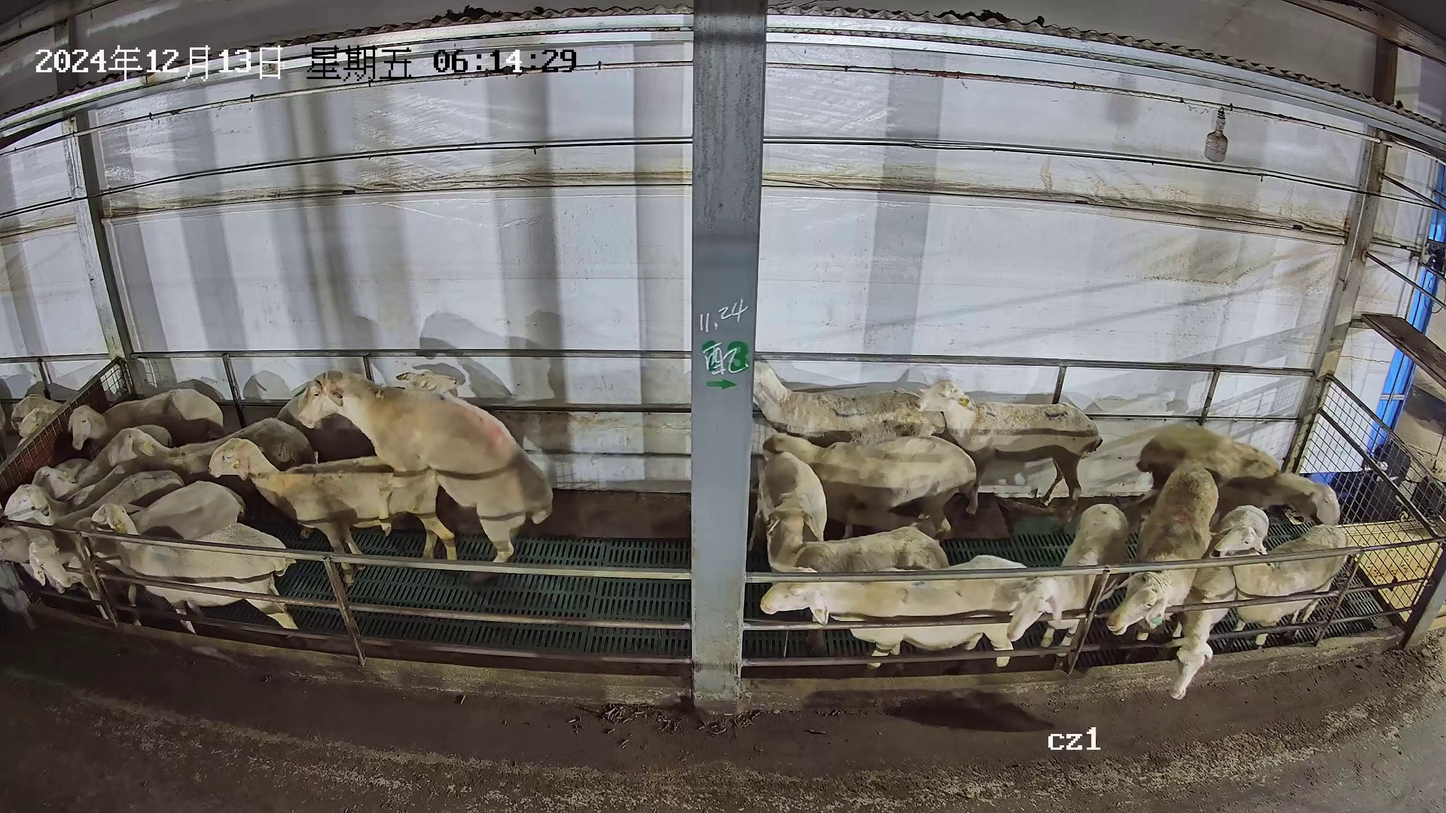Smounting: (201, 369, 554, 589)
mounted: (206, 434, 461, 587)
